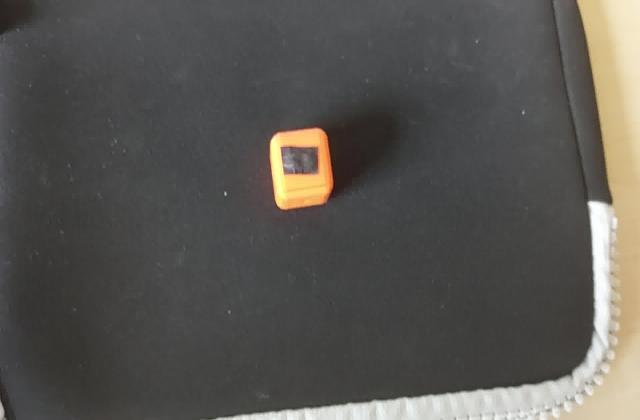black: (278, 142, 325, 180)
sticker: (264, 124, 340, 216)
